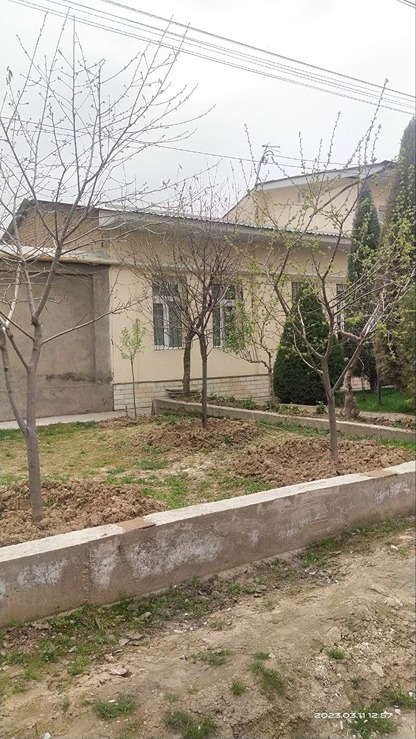tree: (0, 32, 214, 520), (244, 124, 416, 448), (143, 173, 265, 422), (281, 283, 346, 399)
